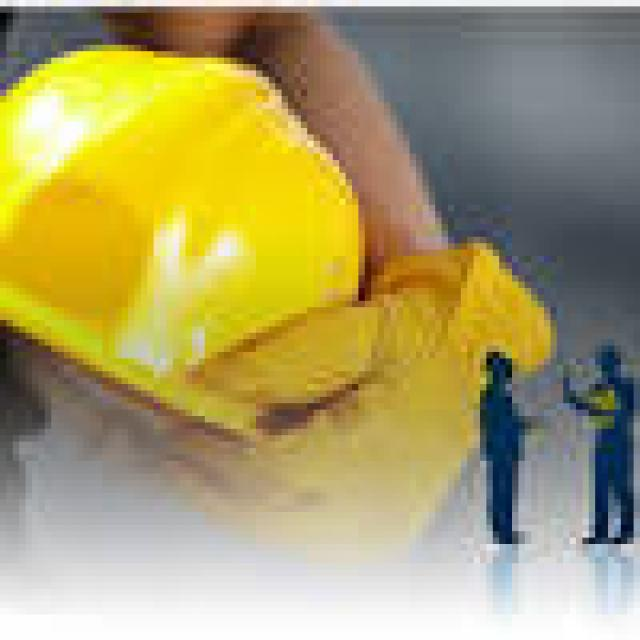Safety-Helmet: (0, 38, 403, 448)
